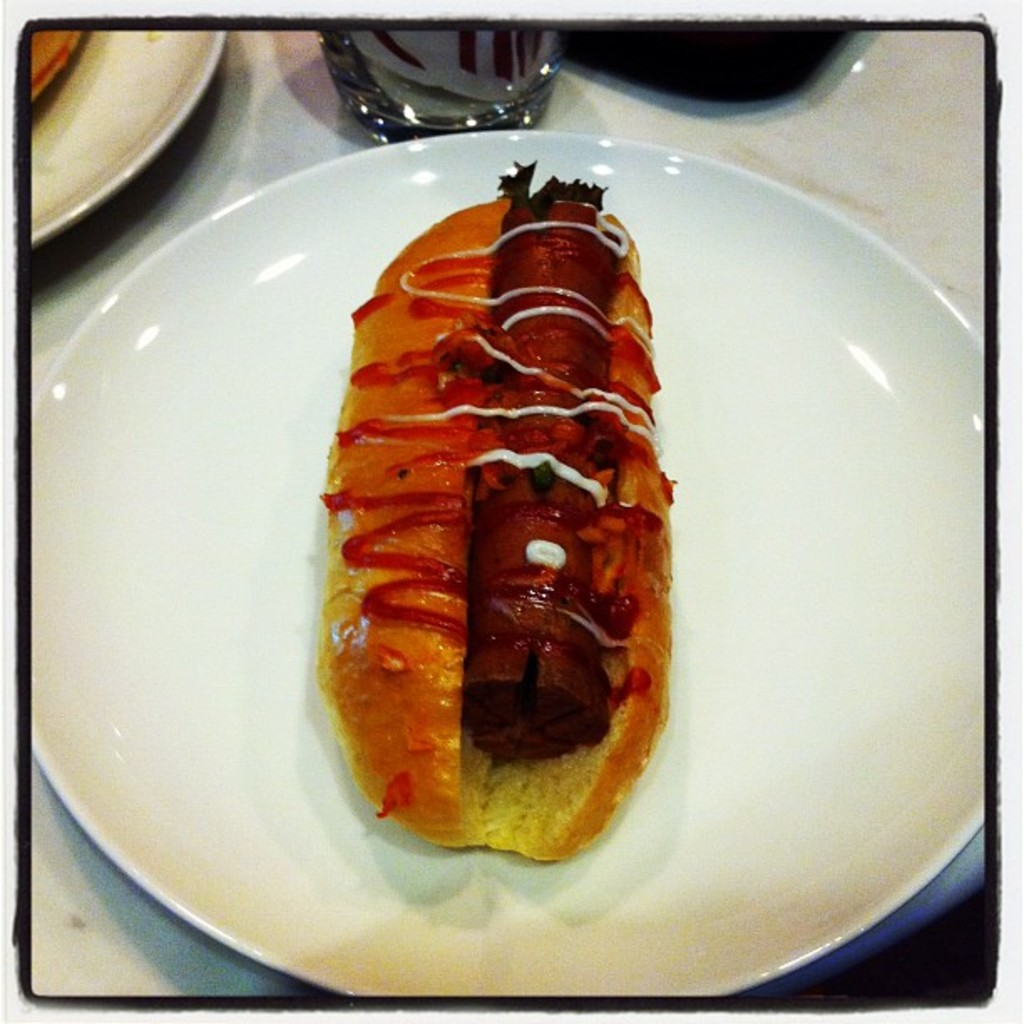hot_dog: (308, 164, 649, 870)
